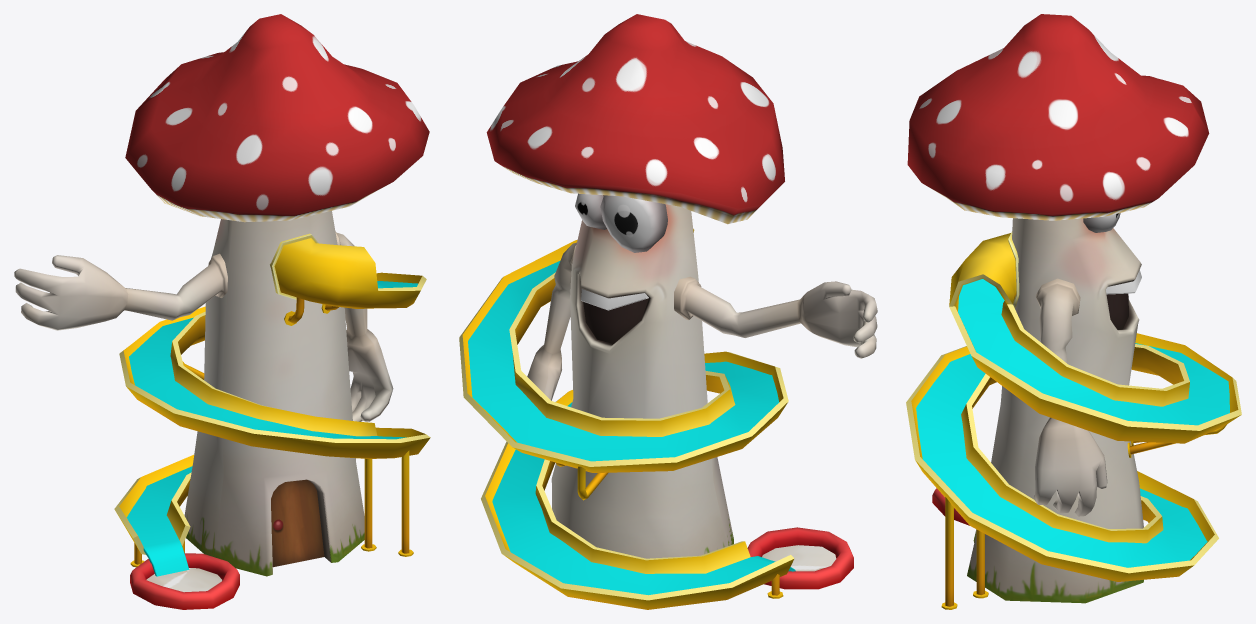
Rendered from ETC0210025.fbx.
3 views of the same model, side by side, from view 1: azimuth 30°, elevation 25°; view 2: azimuth 150°, elevation 25°; view 3: azimuth 270°, elevation 25° (orthographic). The views are drawn at different scales.
Visible parts, largest first — view 1: smETC0210025; view 2: smETC0210025; view 3: smETC0210025.
Boxes of the visible parts, x1,y1,x2,y2 form: smETC0210025: (14, 14, 430, 609); smETC0210025: (459, 14, 877, 609); smETC0210025: (906, 14, 1241, 609).
Bounding box in the file's own units: 1226 × 1574 × 879.
2 materials, 1 textured.
